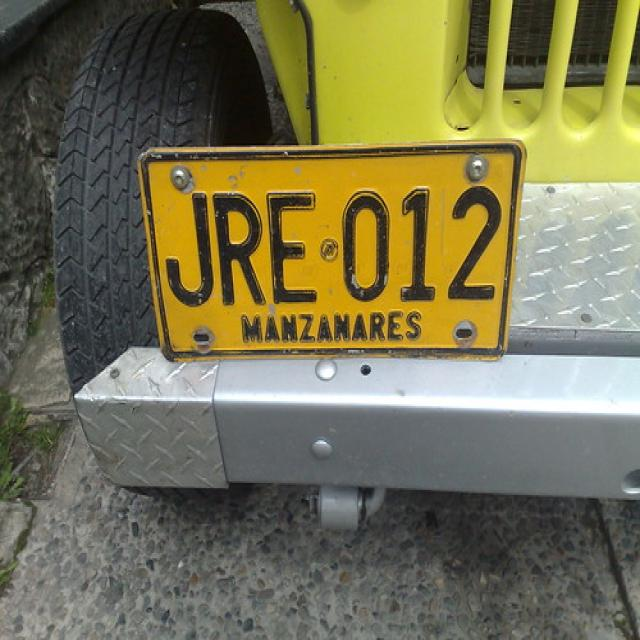placa_carro: (120, 120, 543, 394)
